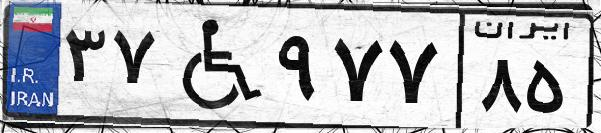3: (57, 26, 110, 100)
5: (525, 38, 570, 115)
7: (385, 28, 445, 110), (330, 28, 385, 110), (110, 28, 158, 98)
8: (475, 38, 525, 113)
9: (270, 28, 330, 110)
ژ (معلولین و جانبازان): (158, 12, 270, 120)
